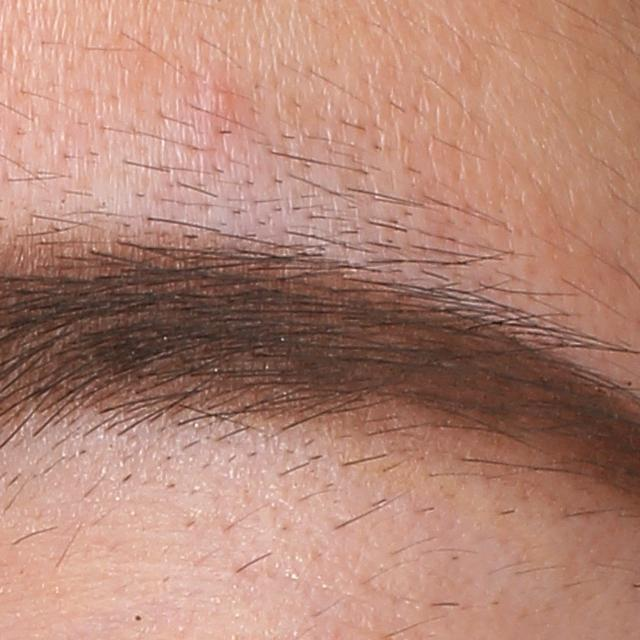comedo: (129, 611, 147, 625)
papule: (186, 75, 237, 123)
